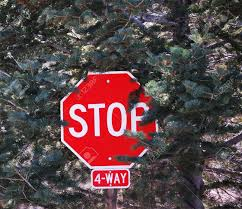stop_sign: (58, 71, 158, 169)
